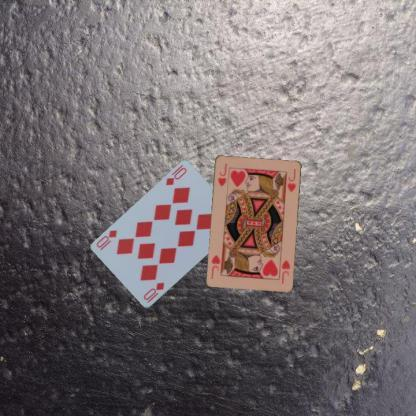10d: (141, 280, 166, 305), (163, 165, 188, 187)
Jh: (275, 255, 292, 285), (214, 161, 229, 187)
